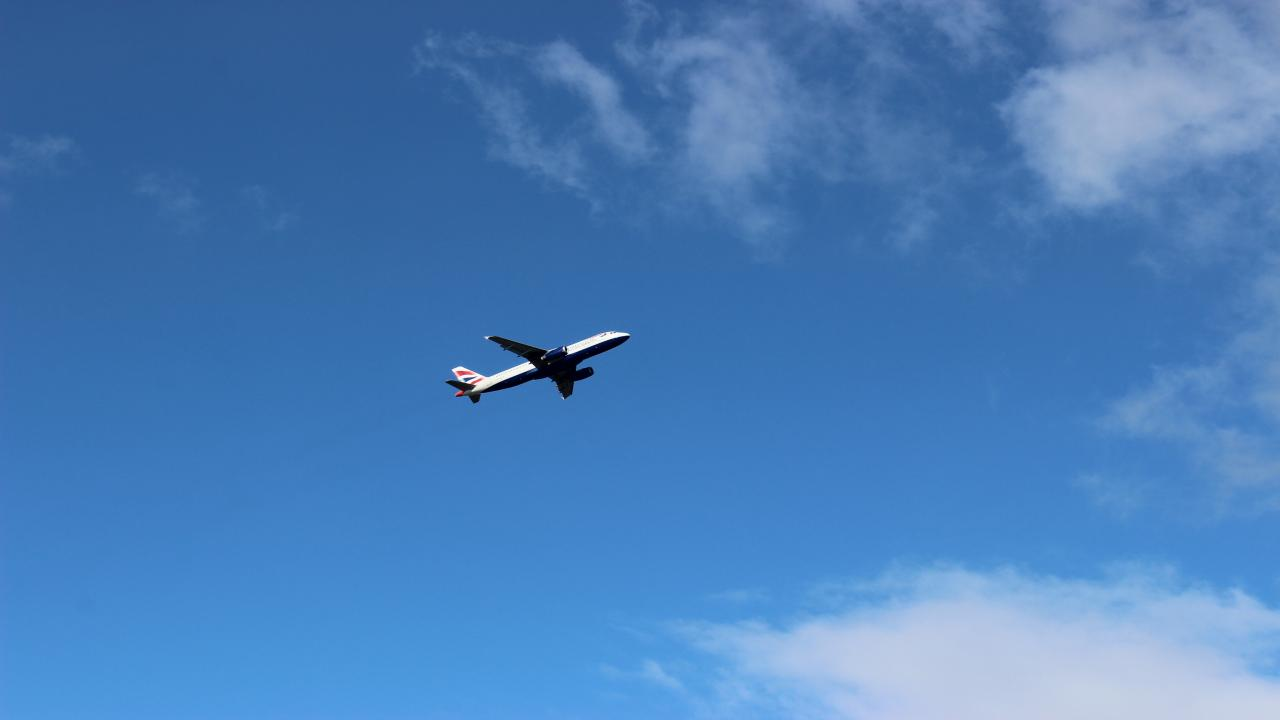Airplane: (424, 313, 656, 419)
